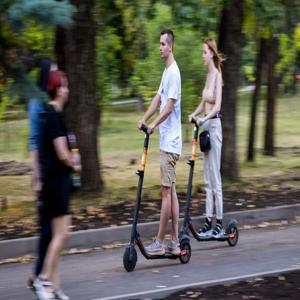human on a scooter: (122, 28, 193, 274), (175, 37, 240, 248)
